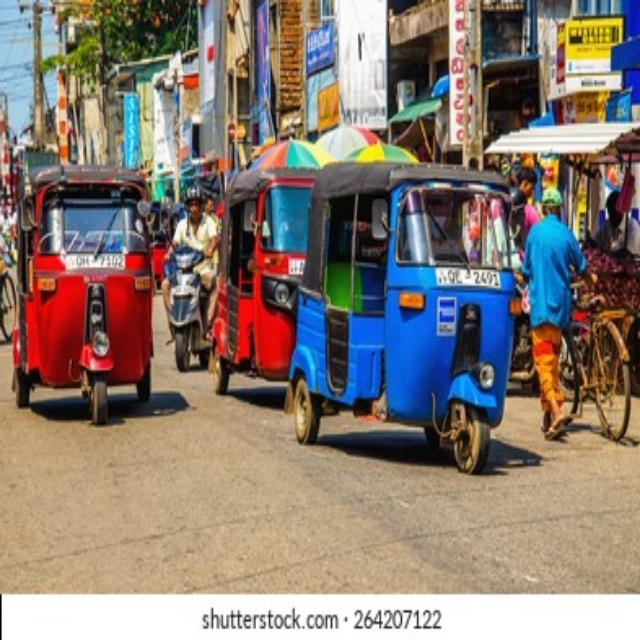Motorcycle: (288, 160, 521, 473), (11, 165, 156, 427), (210, 167, 316, 395), (158, 233, 217, 370)
